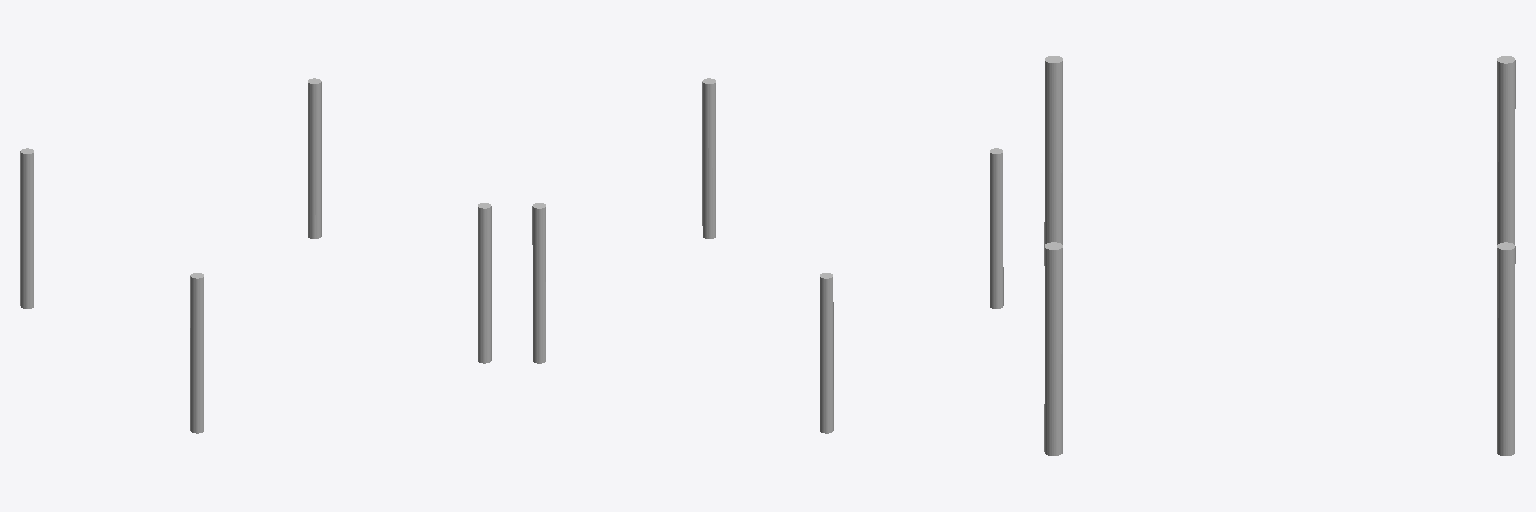
The robot description file, URDF, robot "drawer_legs_merged":
<?xml version="1.0"?>
<robot name="drawer_legs_merged">
    <link name="robot_base">
        <inertial>
            <mass value="1.0" />
            <origin xyz="0 0 0" rpy="0 0 0"/>
            <inertia ixx="1" iyy="1" izz="1" ixy="0" ixz="0" iyz="0" />
        </inertial>
    </link>
    <link name="merged_leg_1">
        <visual>
            <origin xyz="0.102814 0.105409 0.053254" rpy="3.141221 3.141273 3.141593" />
            <geometry>
                <cylinder radius="0.00432" length="0.106" />
            </geometry>
            <material name="robot_base_material">
                <color rgba="0.8 0.8 0.8 1.0" />
            </material>
        </visual>
        <collision>
            <origin xyz="0.102814 0.105409 0.053254" rpy="3.141221 3.141273 3.141593" />
            <geometry>
                <cylinder radius="0.00432" length="0.106" />
            </geometry>
        </collision>
    </link>
    <link name="merged_leg_2">
        <visual>
            <origin xyz="-0.102815 0.105415 0.053319" rpy="3.141221 3.141273 3.141593" />
            <geometry>
                <cylinder radius="0.00432" length="0.106" />
            </geometry>
            <material name="robot_base_material">
                <color rgba="0.8 0.8 0.8 1.0" />
            </material>
        </visual>
        <collision>
            <origin xyz="-0.102815 0.105415 0.053319" rpy="3.141221 3.141273 3.141593" />
            <geometry>
                <cylinder radius="0.00432" length="0.106" />
            </geometry>
        </collision>
    </link>
    <link name="merged_leg_3">
        <visual>
            <origin xyz="-0.102820 -0.105404 0.053397" rpy="3.141221 3.141273 3.141593" />
            <geometry>
                <cylinder radius="0.00432" length="0.106" />
            </geometry>
            <material name="robot_base_material">
                <color rgba="0.8 0.8 0.8 1.0" />
            </material>
        </visual>
        <collision>
            <origin xyz="-0.102820 -0.105404 0.053397" rpy="3.141221 3.141273 3.141593" />
            <geometry>
                <cylinder radius="0.00432" length="0.106" />
            </geometry>
        </collision>
    </link>
    <link name="merged_leg_4">
        <visual>
            <origin xyz="0.102812 -0.105405 0.053331" rpy="3.141221 3.141273 3.141593" />
            <geometry>
                <cylinder radius="0.00432" length="0.106" />
            </geometry>
            <material name="robot_base_material">
                <color rgba="0.8 0.8 0.8 1.0" />
            </material>
        </visual>
        <collision>
            <origin xyz="0.102812 -0.105405 0.053331" rpy="3.141221 3.141273 3.141593" />
            <geometry>
                <cylinder radius="0.00432" length="0.106" />
            </geometry>
        </collision>
    </link>

    <joint name="joint_leg_1" type="fixed">
        <parent link="robot_base"/>
        <child link="merged_leg_1"/>
        <origin xyz="0 0 0" rpy="0 0 0"/>
    </joint>
    <joint name="joint_leg_2" type="fixed">
        <parent link="robot_base"/>
        <child link="merged_leg_2"/>
        <origin xyz="0 0 0" rpy="0 0 0"/>
    </joint>
    <joint name="joint_leg_3" type="fixed">
        <parent link="robot_base"/>
        <child link="merged_leg_3"/>
        <origin xyz="0 0 0" rpy="0 0 0"/>
    </joint>
    <joint name="joint_leg_4" type="fixed">
        <parent link="robot_base"/>
        <child link="merged_leg_4"/>
        <origin xyz="0 0 0" rpy="0 0 0"/>
    </joint>
</robot>

--- What the picture shows (computed from the rendered views, not written in the file) ---
3 views of the same robot in one strip: view 1: azimuth 30°, elevation 25°; view 2: azimuth 150°, elevation 25°; view 3: azimuth 270°, elevation 25° (orthographic).
Model drawer_legs_merged with 5 links and 4 joints (4 fixed), rooted at robot_base, posed all joints at 0.
Visible links, largest first — view 1: merged_leg_1, merged_leg_3, merged_leg_2, merged_leg_4; view 2: merged_leg_4, merged_leg_2, merged_leg_1, merged_leg_3; view 3: merged_leg_4, merged_leg_1, merged_leg_2, merged_leg_3.
Boxes of the visible links, box(x1,y1,x2,y2) form: merged_leg_1: box(308, 78, 321, 238); merged_leg_3: box(190, 273, 203, 433); merged_leg_2: box(20, 148, 33, 308); merged_leg_4: box(478, 203, 491, 363); merged_leg_4: box(702, 78, 715, 238); merged_leg_2: box(820, 273, 833, 433); merged_leg_1: box(532, 203, 545, 363); merged_leg_3: box(990, 148, 1003, 308); merged_leg_4: box(1044, 242, 1062, 455); merged_leg_1: box(1497, 242, 1515, 455); merged_leg_2: box(1497, 56, 1515, 244); merged_leg_3: box(1044, 56, 1062, 265).
Size in the robot's own frame: 0.2143 by 0.2195 by 0.1061 metres.
Geometry: primitives only (box / cylinder / sphere), no mesh files.